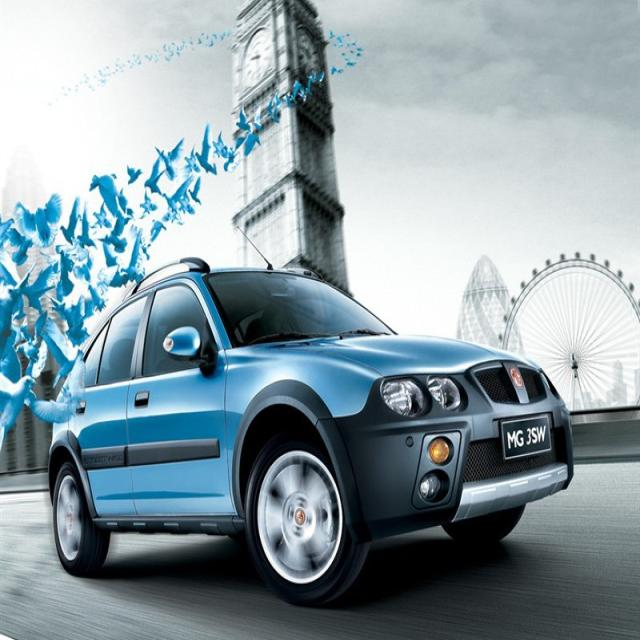door: (82, 286, 158, 517)
front_bumper: (313, 361, 576, 531)
front_glass: (202, 268, 398, 351)
front_right_side_door: (125, 273, 238, 537)
front_right_side_light: (372, 366, 467, 424)
front_right_side_mirror: (159, 323, 210, 367)
wheel: (249, 440, 365, 602), (51, 453, 112, 571)
